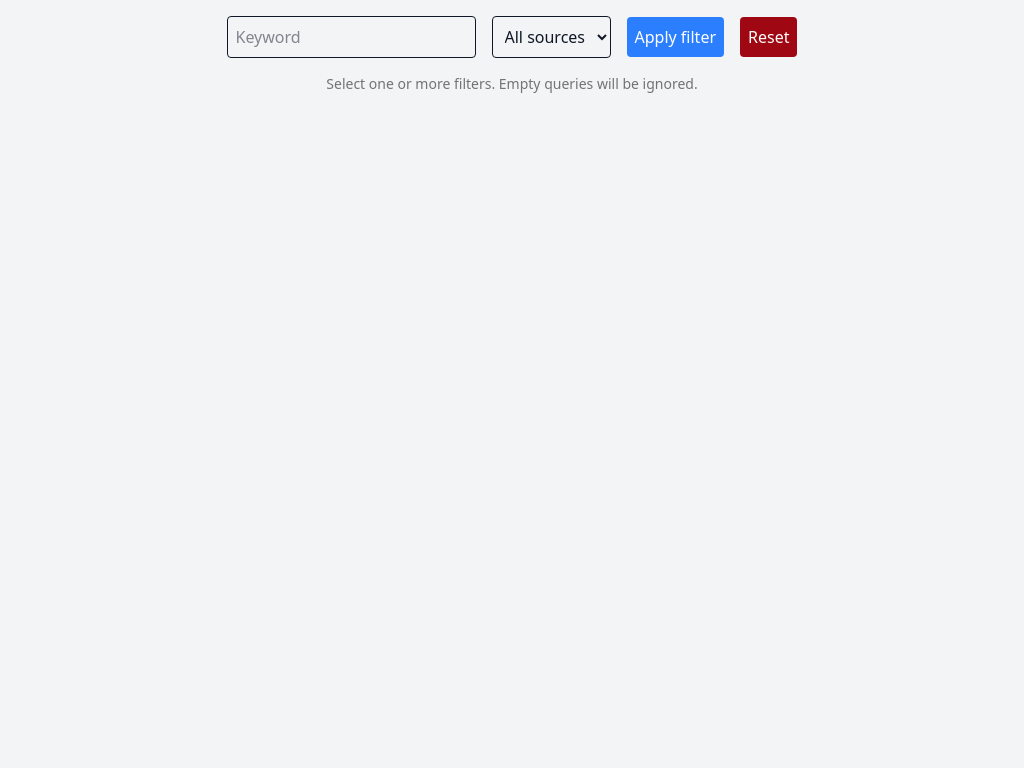
Test: FiltersPage (con userEvent) › muestra los skeletons mientras carga
Click the button "Apply filter": (675, 37) x1=626 y1=17 x2=724 y2=57
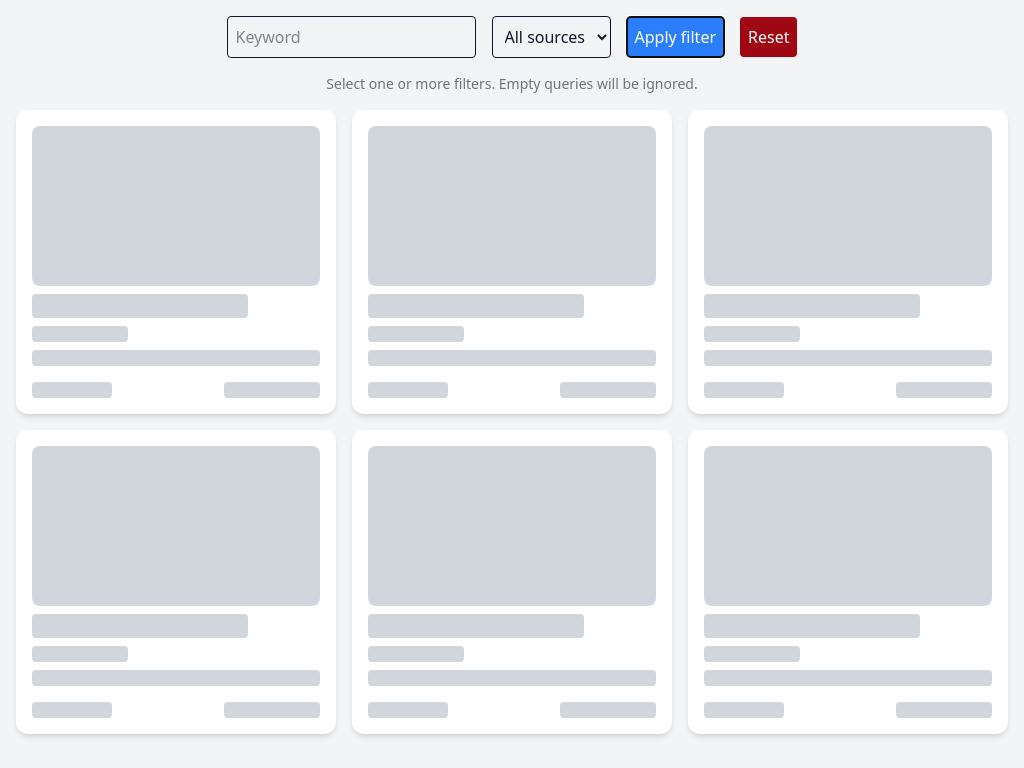
expect the number of elements with test id "news-card-skeleton" is 6: met, box x1=16 y1=110 x2=336 y2=414; x1=352 y1=110 x2=672 y2=414; x1=688 y1=110 x2=1008 y2=414; x1=16 y1=430 x2=336 y2=734; x1=352 y1=430 x2=672 y2=734; x1=688 y1=430 x2=1008 y2=734
